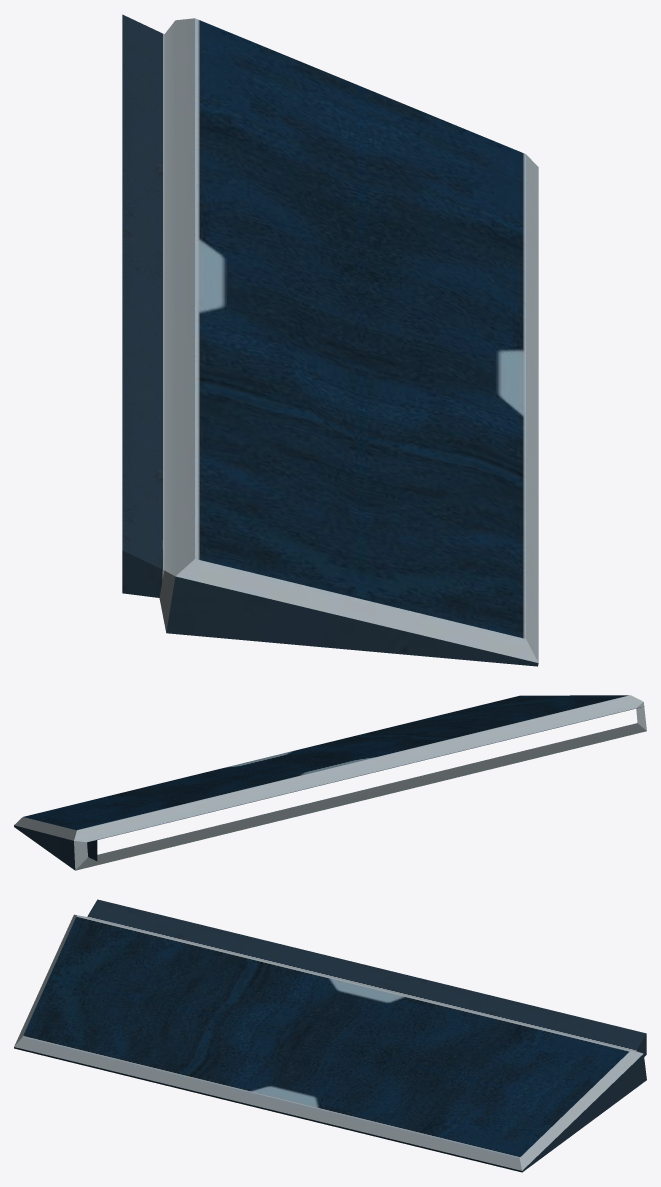
Rendered from entity95256n.gltf.
3 renders of one model, top to bottom at view 1: azimuth 30°, elevation 25°; view 2: azimuth 150°, elevation 25°; view 3: azimuth 270°, elevation 25°, orthographic. The views are drawn at different scales.
Visible parts, largest first — view 1: node_Museum_Hex_Floor_Ramp_Art; view 2: node_Museum_Hex_Floor_Ramp_Art; view 3: node_Museum_Hex_Floor_Ramp_Art.
Boxes of the visible parts, box(x1,y1,x2,y2) form: node_Museum_Hex_Floor_Ramp_Art: box(122, 14, 538, 666); node_Museum_Hex_Floor_Ramp_Art: box(14, 695, 646, 870); node_Museum_Hex_Floor_Ramp_Art: box(14, 899, 646, 1172).
Size of what is drawn, in the model's own units: 3.52 by 0.5443 by 4.59.
1 material, 1 textured.
